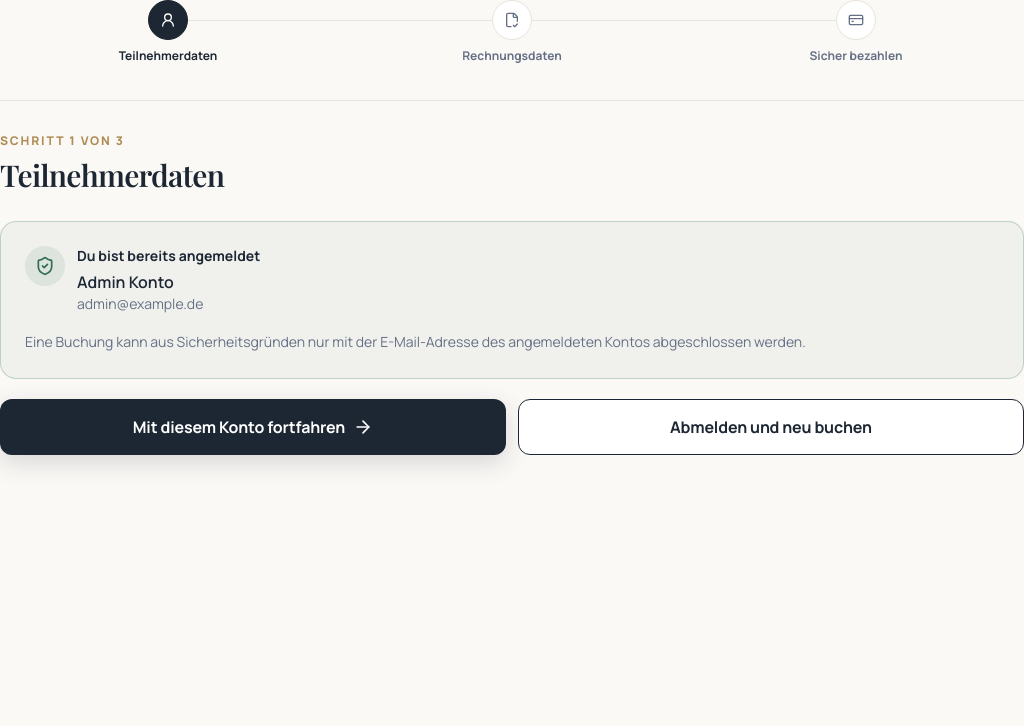
Teilnehmerkonto im Checkout › zeigt eine bestehende Anmeldung vor dem Formular und erlaubt eine gezielte Abmeldung
The image size is (1024, 726).
Check: the text "Du bist bereits angemeldet" is shown, box [77,246,260,266]
Check: the text "admin@example.de" is shown, box [77,294,203,313]
Click the button "Abmelden und neu buchen": x=771, y=427 [518,399,1023,455]
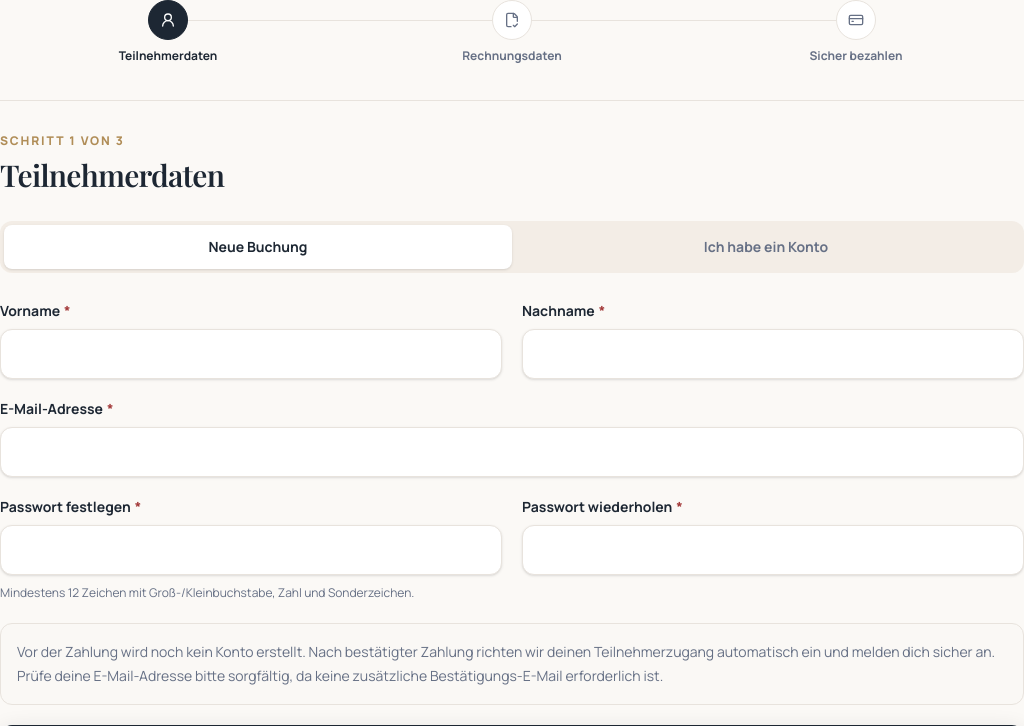
Check: the field labelled "Vorname*" is shown, box [0,329,502,379]
Check: the password field labelled "Passwort festlegen*" is shown, box [0,525,502,575]
